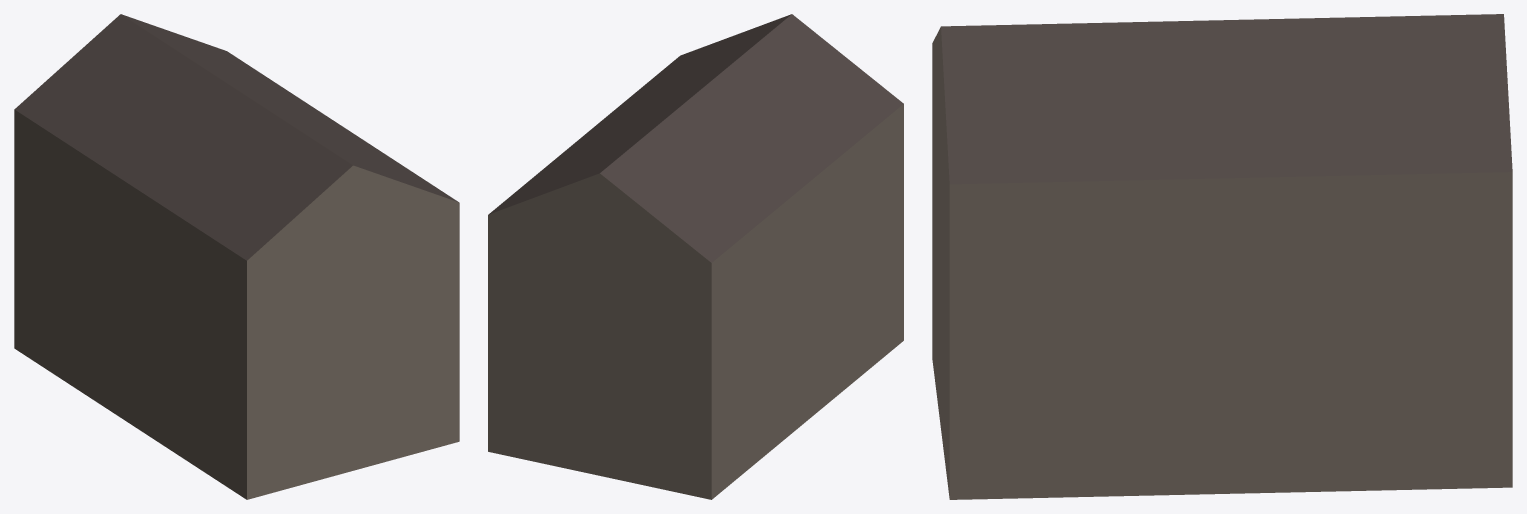
The picture shows the model from 3 angles, left to right: view 1: azimuth 30°, elevation 25°; view 2: azimuth 150°, elevation 25°; view 3: azimuth 270°, elevation 25°; orthographic projection. The views are drawn at different scales.
Parts seen in each view (by area): view 1: HP-w1424106428; view 2: HP-w1424106428; view 3: HP-w1424106428.
Boxes of the visible parts, box(x1,y1,x2,y2) form: HP-w1424106428: box(14, 14, 459, 499); HP-w1424106428: box(488, 14, 903, 499); HP-w1424106428: box(932, 14, 1512, 499).
Size of the model in its own units: 6.26 by 7.66 by 10.
